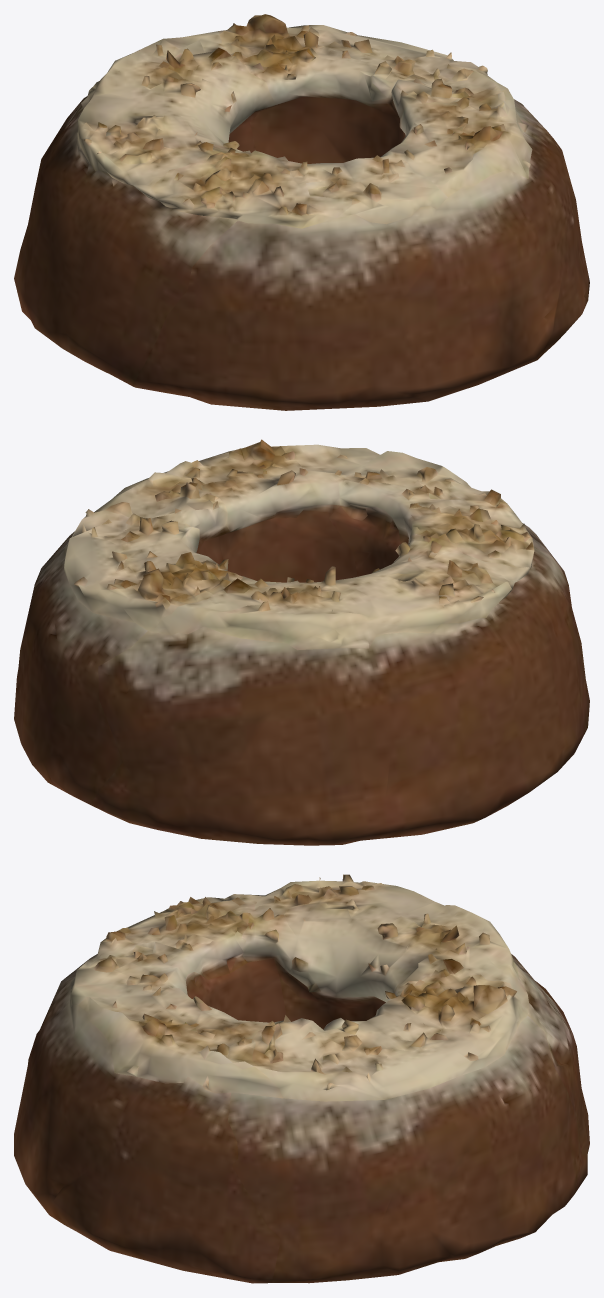
File: ph_cake.glb
3 renders of one model, top to bottom at view 1: azimuth 30°, elevation 25°; view 2: azimuth 150°, elevation 25°; view 3: azimuth 270°, elevation 25°, orthographic. The views are drawn at different scales.
Parts seen in each view (by area): view 1: carrot_cake; view 2: carrot_cake; view 3: carrot_cake.
Part boxes in pixels (bbox=[...]): carrot_cake: bbox=[14, 14, 589, 410]; carrot_cake: bbox=[14, 439, 589, 845]; carrot_cake: bbox=[14, 874, 589, 1283].
Bounding box in the file's own units: 0.2254 × 0.0976 × 0.2254.
1 material, 1 textured.
